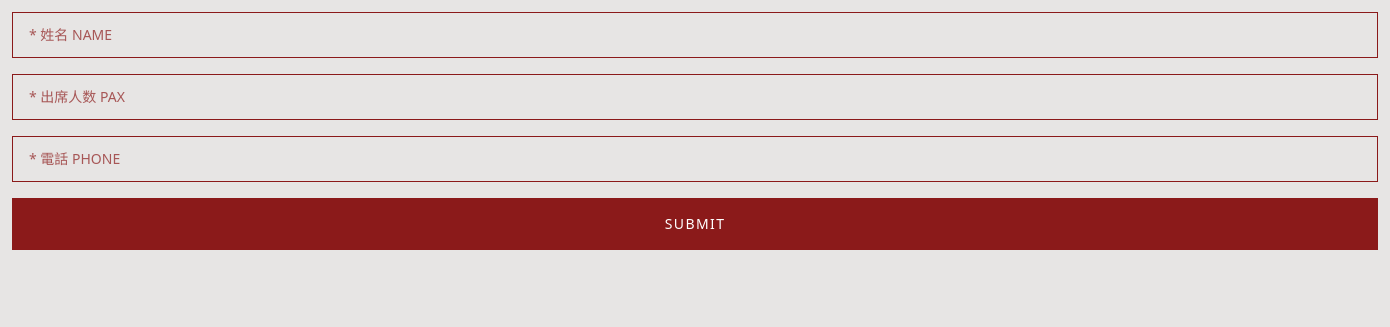
Test: RsvpForm › shows validation errors when submitted empty
The image size is (1390, 327).
Step 1. Click the button "SUBMIT" → x=695, y=224, box [12,198,1378,250]
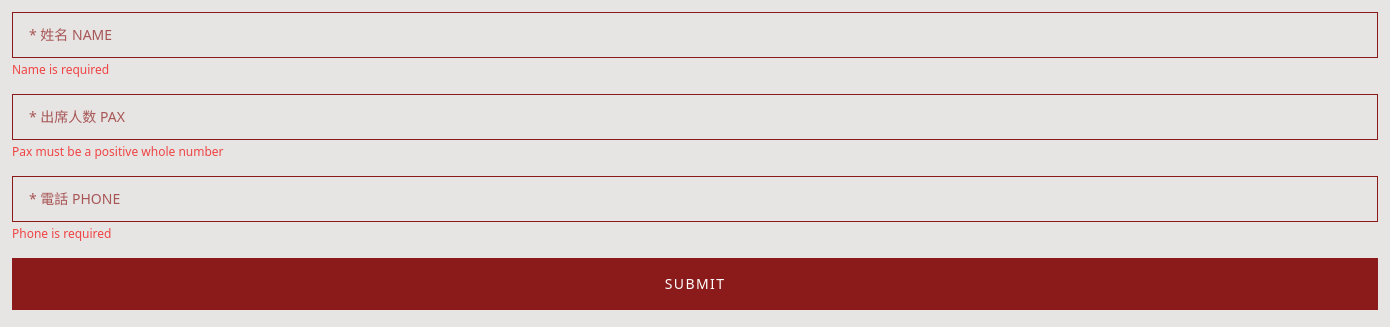
Now the text "Name is required" is shown, box [12,61,109,78]
Now the text "Pax must be a positive whole number" is shown, box [12,143,224,160]
Now the text "Phone is required" is shown, box [12,225,112,242]
